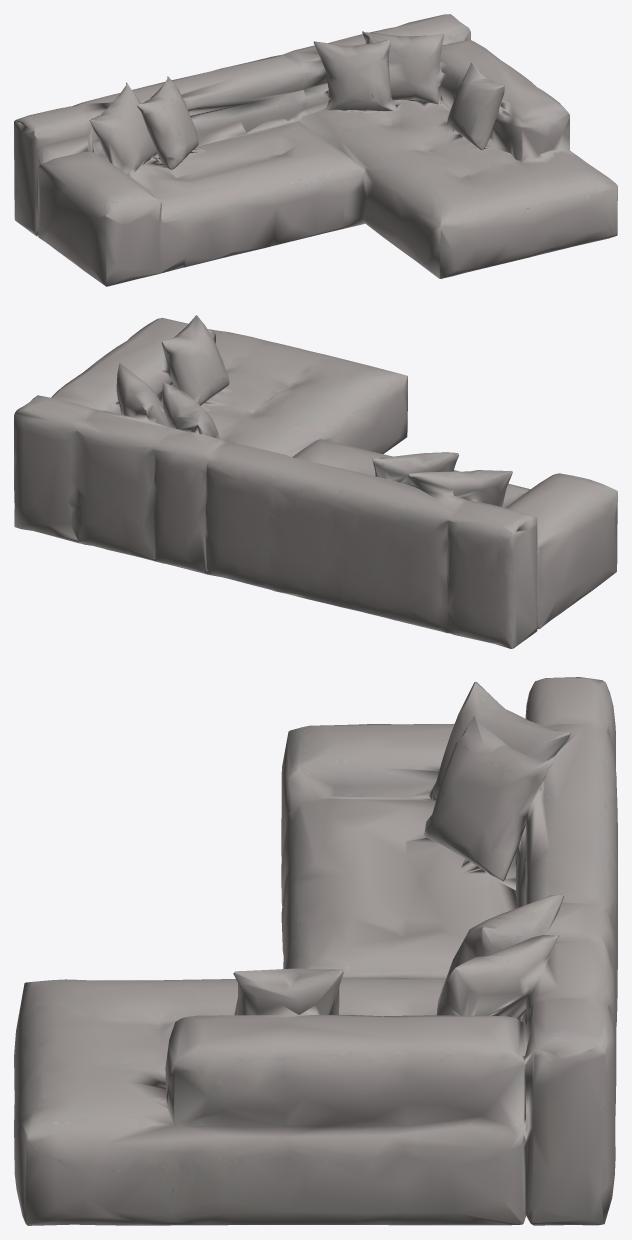
File: lcyqCtS0mVB1AcS4JvYNj.glb
3 views of the same model, one above another, from view 1: azimuth 30°, elevation 25°; view 2: azimuth 150°, elevation 25°; view 3: azimuth 270°, elevation 25° (orthographic). The views are drawn at different scales.
Visible parts, largest first — view 1: geometry_0; view 2: geometry_0; view 3: geometry_0.
Boxes of the visible parts, x1=… form: geometry_0: x1=14, y1=14, x2=617, y2=286; geometry_0: x1=14, y1=315, x2=617, y2=648; geometry_0: x1=14, y1=677, x2=617, y2=1225.
Bounding box in the file's own units: 0.9895 × 0.2685 × 0.6678.
Materials: 1 (1 with a texture image).
